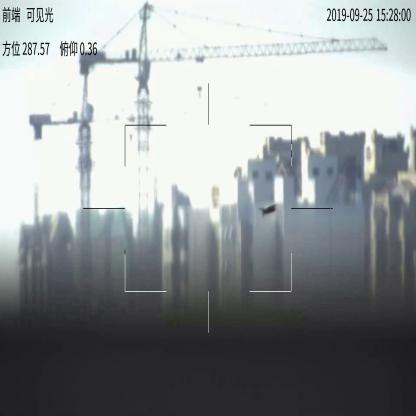uav: (260, 201, 276, 214)
